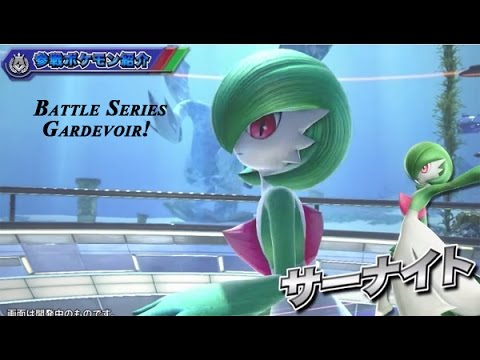gardevoir: (130, 47, 352, 318), (383, 142, 480, 316)
